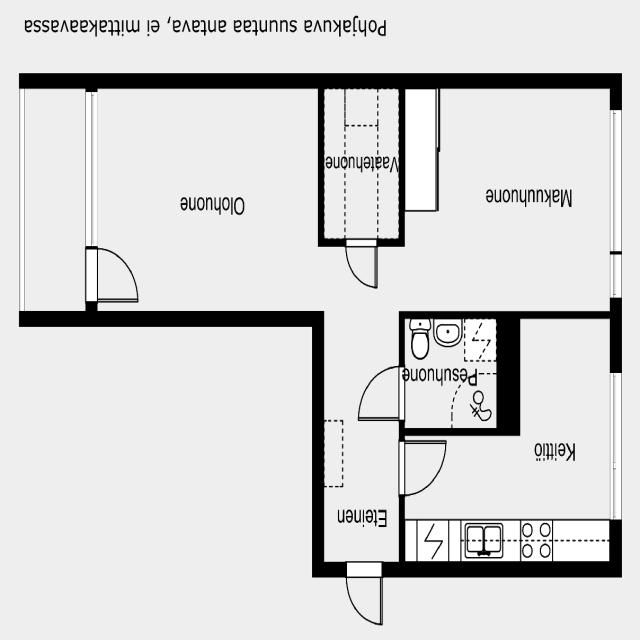door: (91, 83, 322, 319), (321, 86, 402, 241), (85, 242, 144, 305), (398, 436, 449, 500), (354, 361, 406, 423), (344, 562, 385, 628), (343, 237, 380, 291)
window: (606, 107, 626, 259), (80, 81, 96, 255), (608, 370, 624, 529), (607, 250, 625, 301)
zone: (402, 80, 623, 320), (401, 430, 617, 573), (515, 315, 616, 434), (402, 313, 500, 430), (86, 242, 142, 304)
